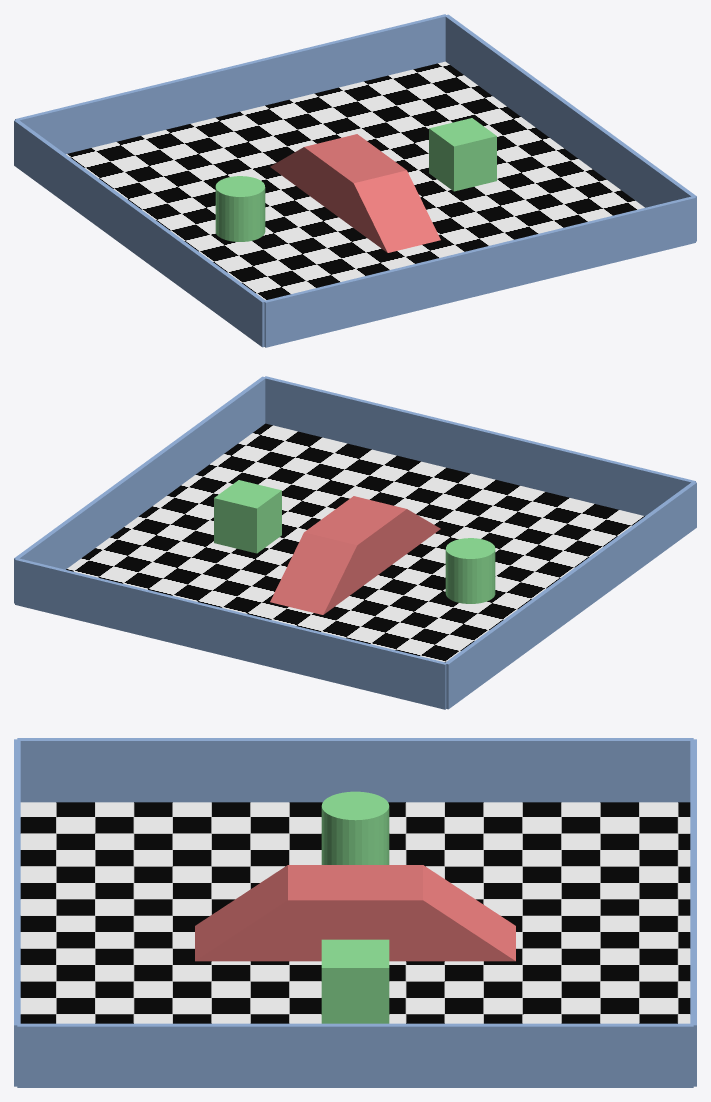
Rendered from fpv.glb.
3 renders of one model, top to bottom at view 1: azimuth 30°, elevation 25°; view 2: azimuth 150°, elevation 25°; view 3: azimuth 270°, elevation 25°, orthographic. The views are drawn at different scales.
Visible parts, largest first — view 1: ground, Cube.001, Cube, Cube.003, Cube.002, Cube.004, Cube.005, Cylinder; view 2: ground, Cube, Cube.001, Cube.003, Cube.002, Cube.004, Cube.005, Cylinder; view 3: ground, Cube.002, Cube.003, Cube.004, Cube.005, Cylinder, Cube, Cube.001.
Boxes of the visible parts, box(x1,y1,x2,y2) form: ground: box(66, 61, 644, 300); Cube.001: box(264, 196, 695, 347); Cube: box(15, 14, 446, 153); Cube.003: box(14, 119, 265, 347); Cube.002: box(445, 14, 696, 241); Cube.004: box(270, 134, 440, 252); Cube.005: box(429, 118, 496, 191); Cylinder: box(215, 176, 265, 241); ground: box(66, 423, 644, 662); Cube: box(15, 558, 446, 709); Cube.001: box(264, 376, 695, 515); Cube.003: box(445, 481, 696, 709); Cube.002: box(14, 376, 265, 603); Cube.004: box(270, 496, 440, 614); Cube.005: box(214, 480, 281, 553); Cylinder: box(445, 538, 495, 603); ground: box(20, 802, 690, 1023); Cube.002: box(17, 1023, 693, 1087); Cube.003: box(17, 738, 693, 802); Cube.004: box(195, 865, 515, 961); Cube.005: box(321, 939, 389, 1023); Cylinder: box(321, 791, 389, 864); Cube: box(690, 739, 696, 1086); Cube.001: box(14, 739, 20, 1086).
Bounding box in the file's own units: 20.2 × 2 × 20.2.
Materials: 4 (1 with a texture image).
